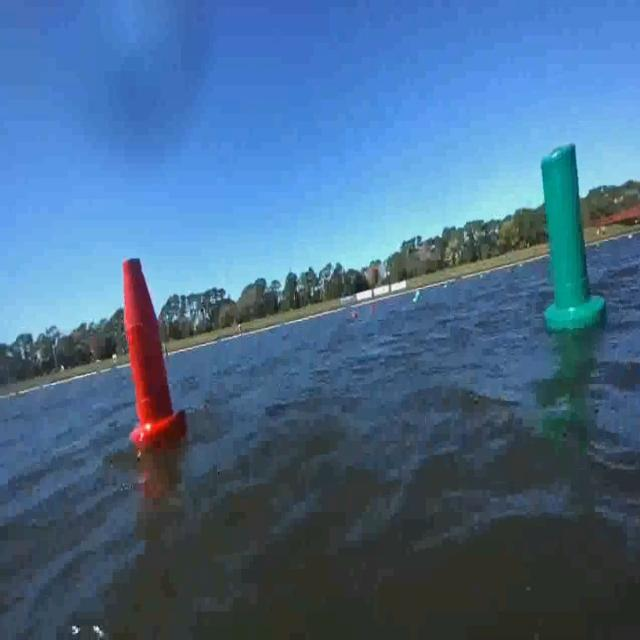green-column-buoy: (539, 144, 604, 334)
red-column-buoy: (123, 255, 188, 446)
